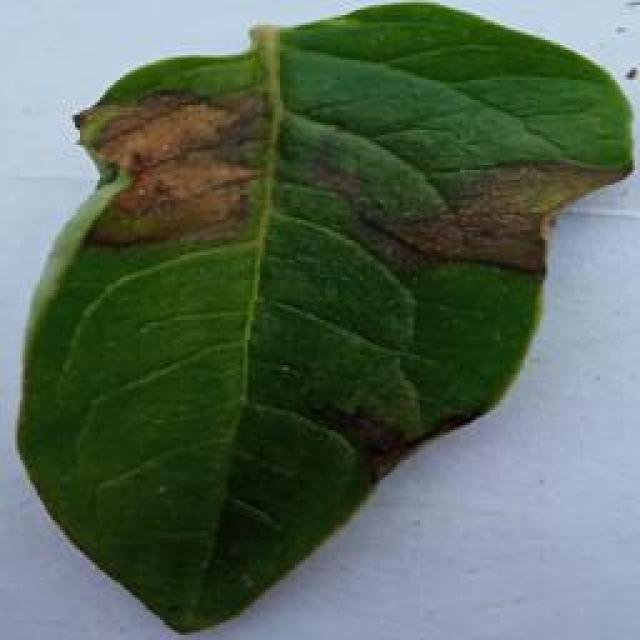Potato_Late_Blight: (21, 8, 625, 636)
